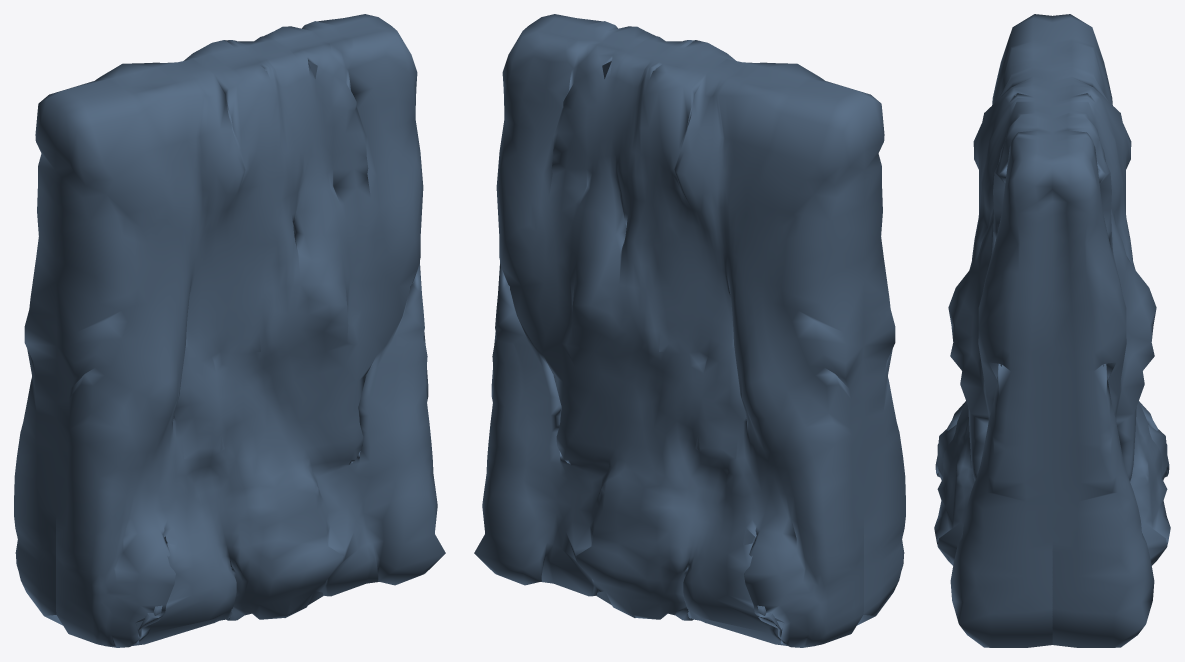
Rendered from Wall.Basic.DoubleSided.002.dae.
3 views of the same model, side by side, from view 1: azimuth 30°, elevation 25°; view 2: azimuth 150°, elevation 25°; view 3: azimuth 270°, elevation 25° (orthographic). The views are drawn at different scales.
Parts seen in each view (by area): view 1: Plane.005; view 2: Plane.005; view 3: Plane.005.
Part boxes in pixels (x1,y1,x2,y2): Plane.005: (14,14,445,647); Plane.005: (474,14,905,647); Plane.005: (934,14,1170,647).
Bounding box in the file's own units: 12.87 × 8.13 × 18.66.
